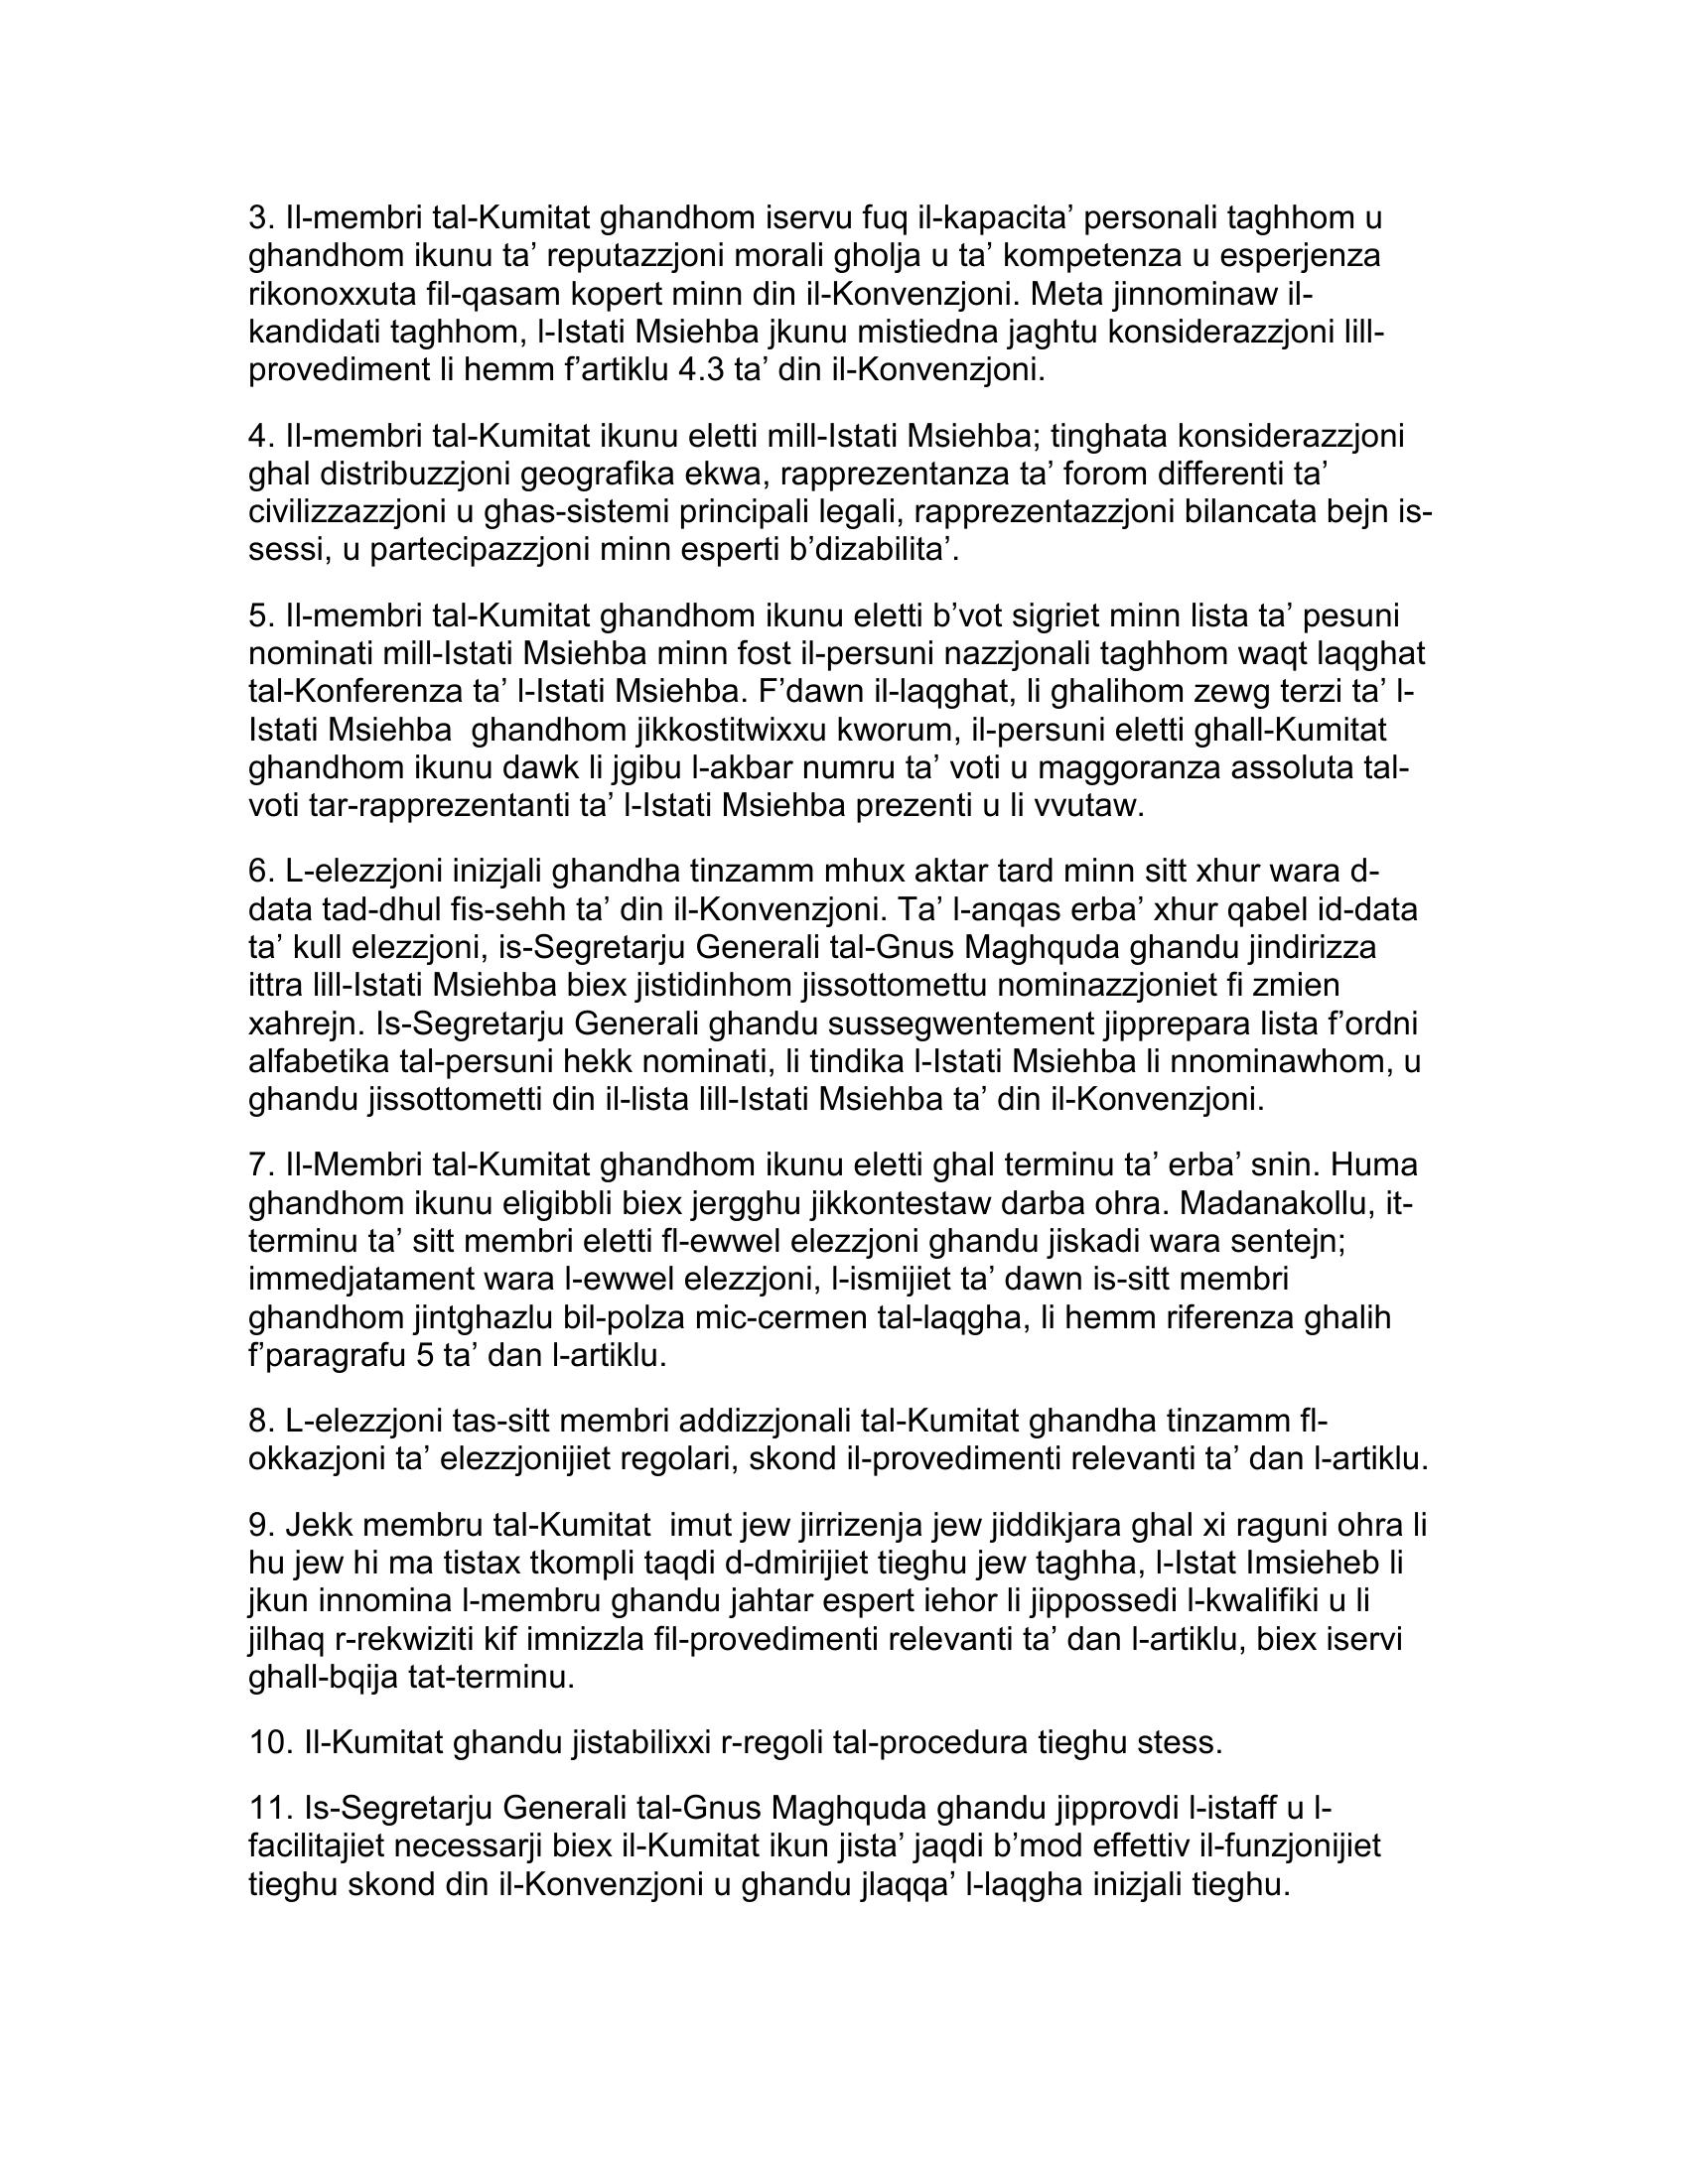text: (220, 168, 1445, 1916)
